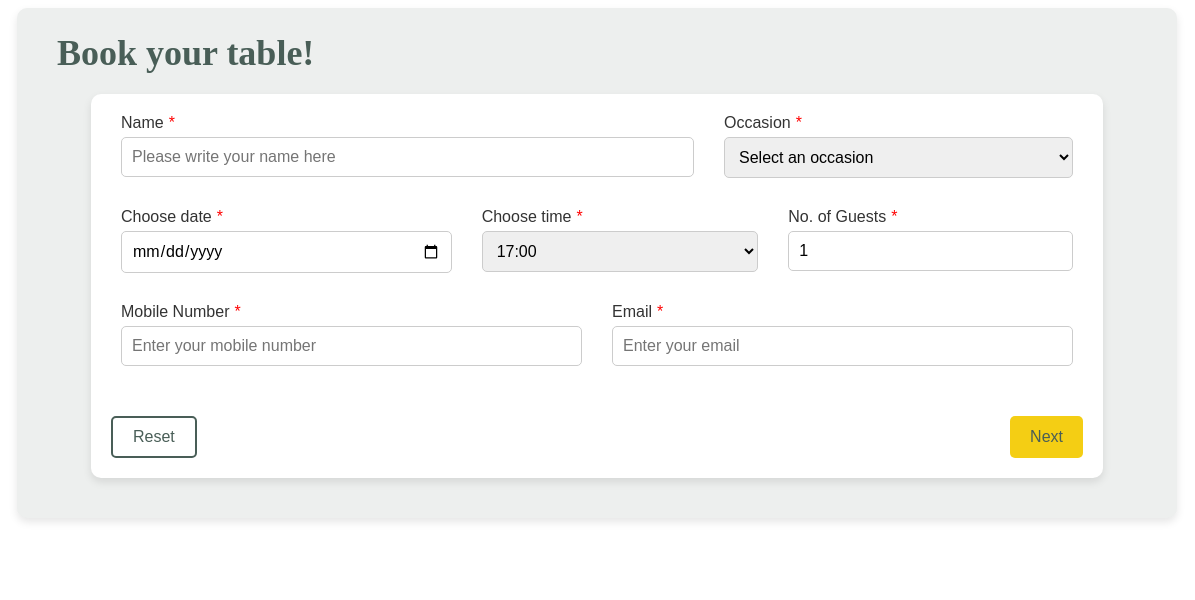
Test: BookingForm Component › shows error messages for invalid fields when Next is clicked
Note: Simulate clicking the Next button
Click the button "Next": (1047, 437) [1010,416,1083,458]
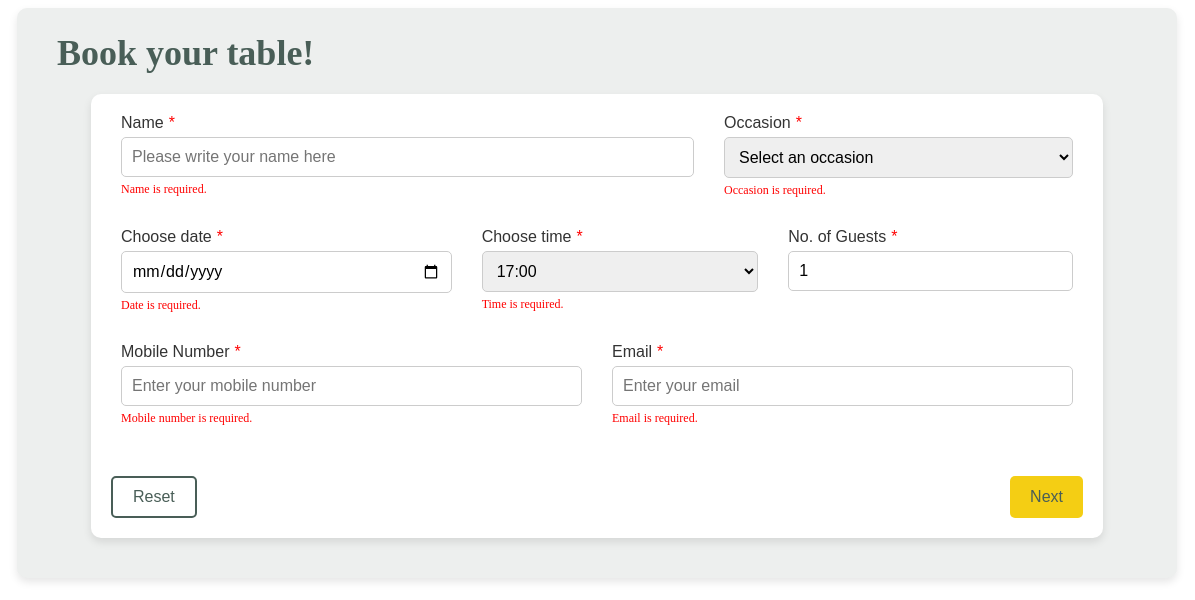
Expected: the text "Name is required." is shown, [121,182,207,196]
Expected: the text "Mobile number is required." is shown, [121,411,252,425]
Expected: the text "Email is required." is shown, [612,411,698,425]
